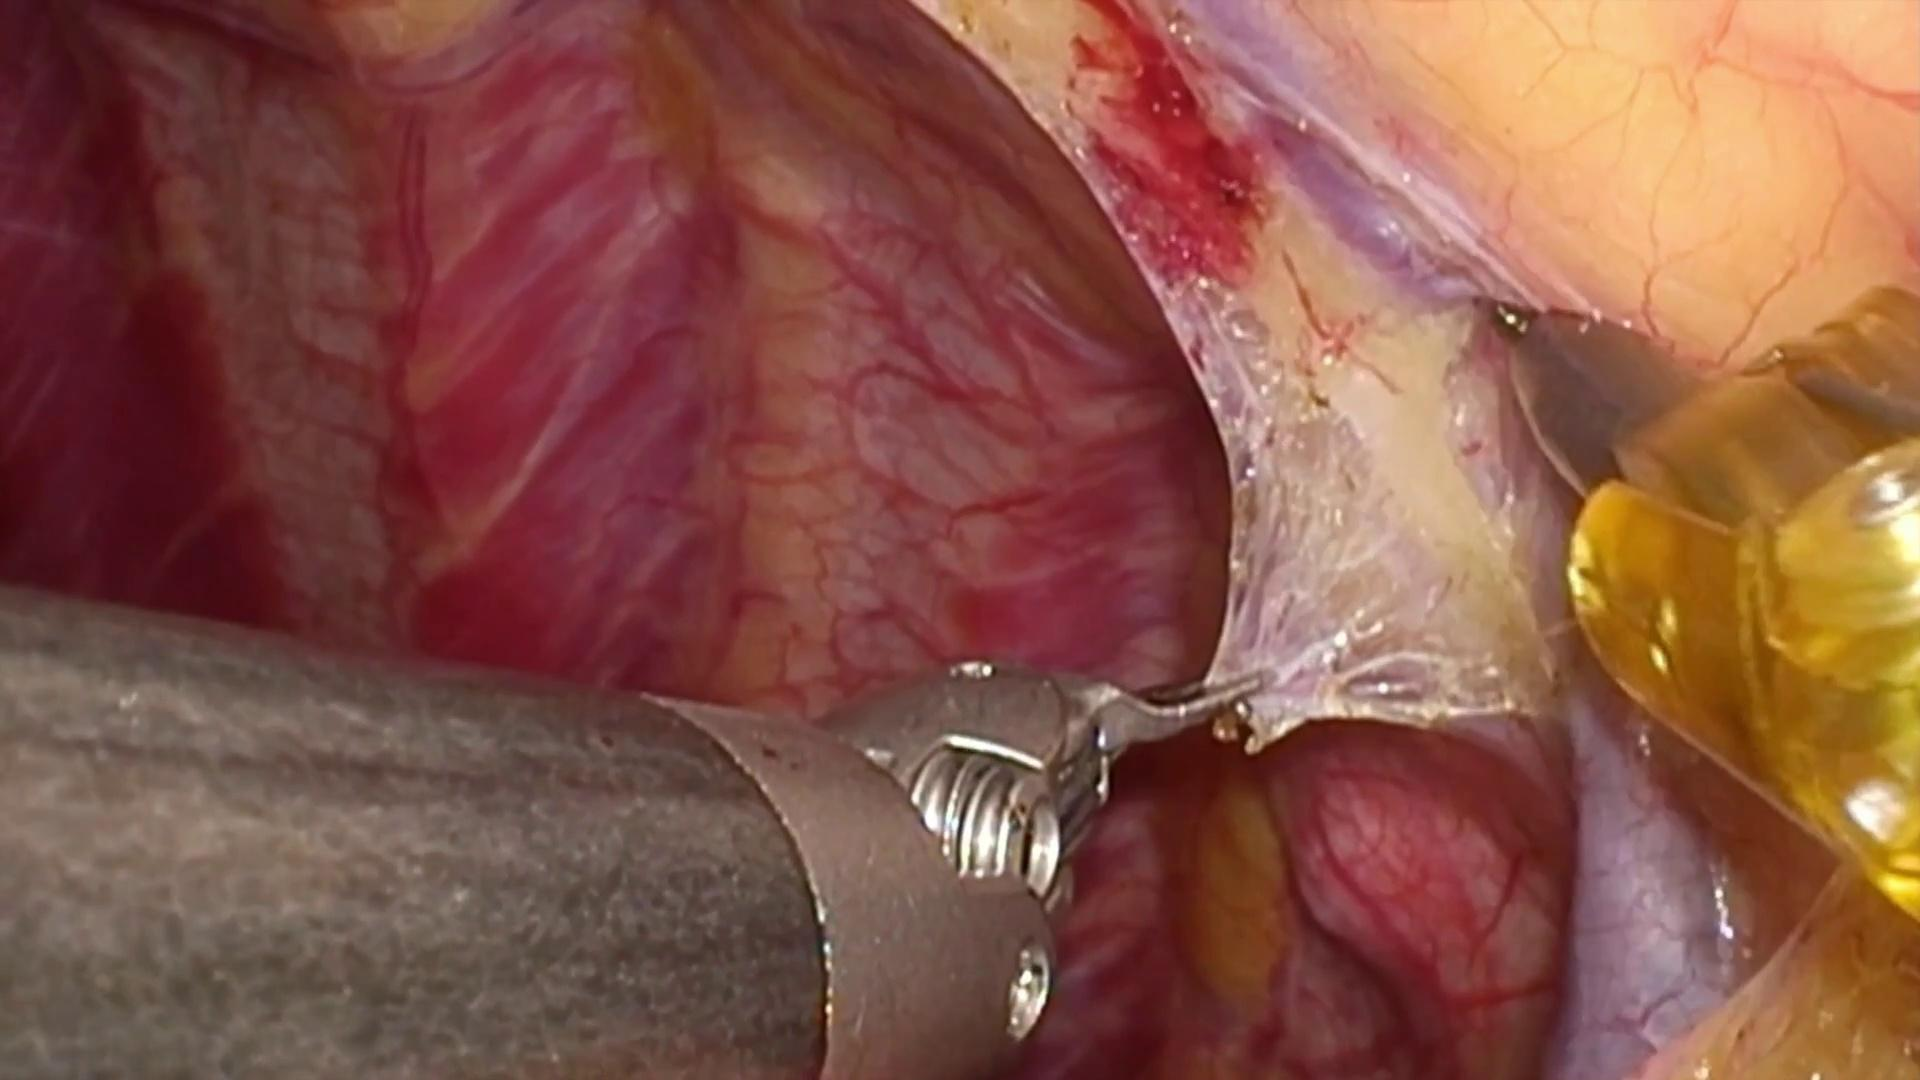Cautery_Spatula: (1460, 273, 1716, 513)
Debakey: (1060, 665, 1265, 769)
